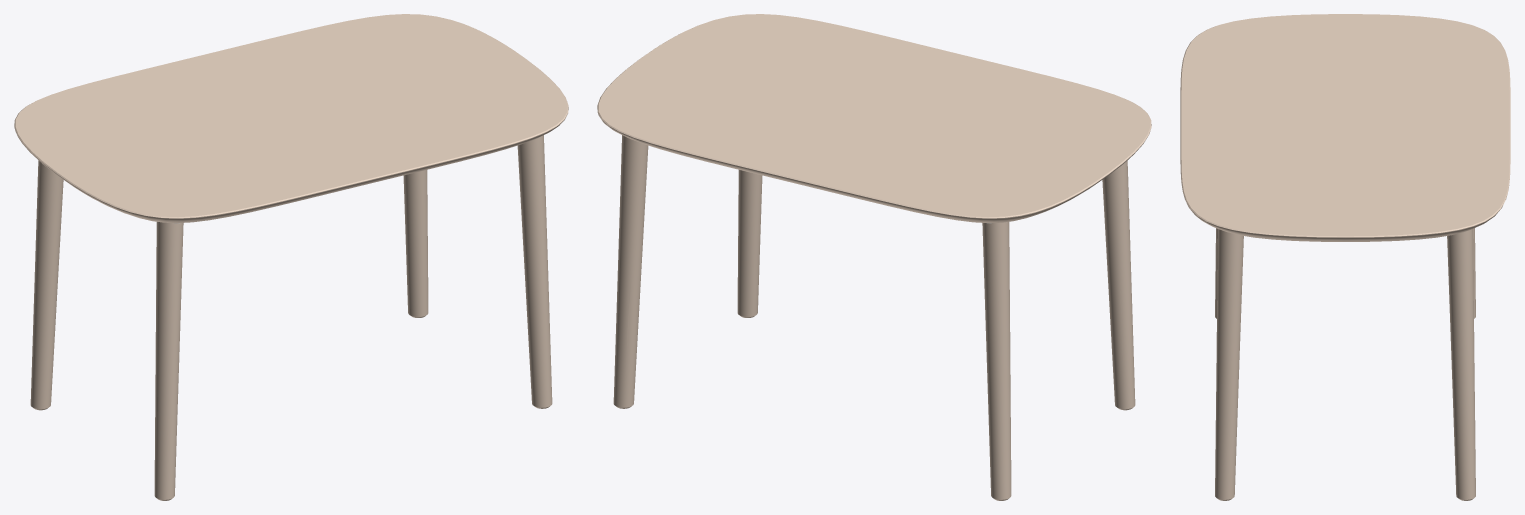
The model's file is 572_ダイニングテーブル4人掛け.glb.
The picture shows the model from 3 angles, left to right: view 1: azimuth 30°, elevation 25°; view 2: azimuth 150°, elevation 25°; view 3: azimuth 270°, elevation 25°; orthographic projection. The views are drawn at different scales.
Parts seen in each view (by area): view 1: Body; view 2: Body; view 3: Body.
Part boxes in pixels (bbox=[...]): Body: bbox=[14, 14, 568, 500]; Body: bbox=[597, 14, 1151, 500]; Body: bbox=[1180, 14, 1510, 500].
Bounding box in the file's own units: 1.2 × 0.71 × 0.751.
